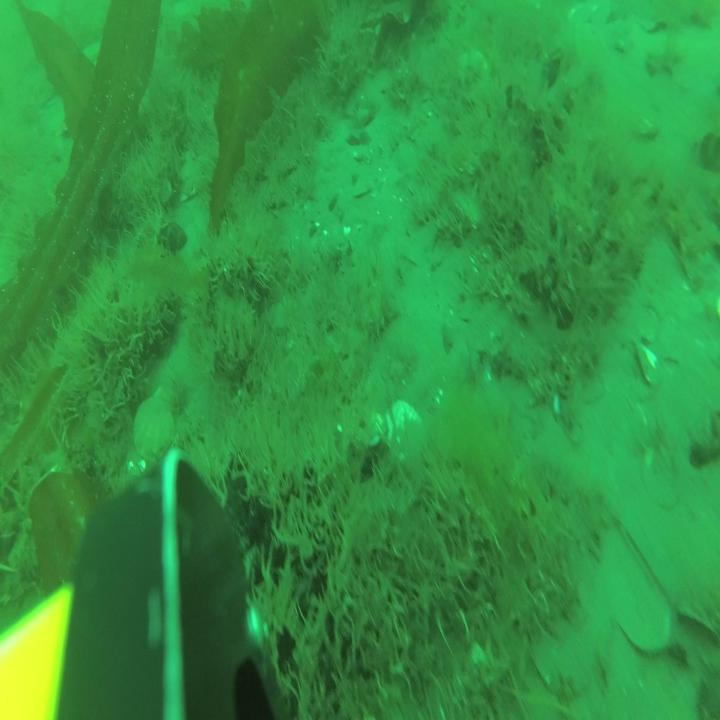scallop: (376, 395, 422, 459), (135, 387, 173, 456)
